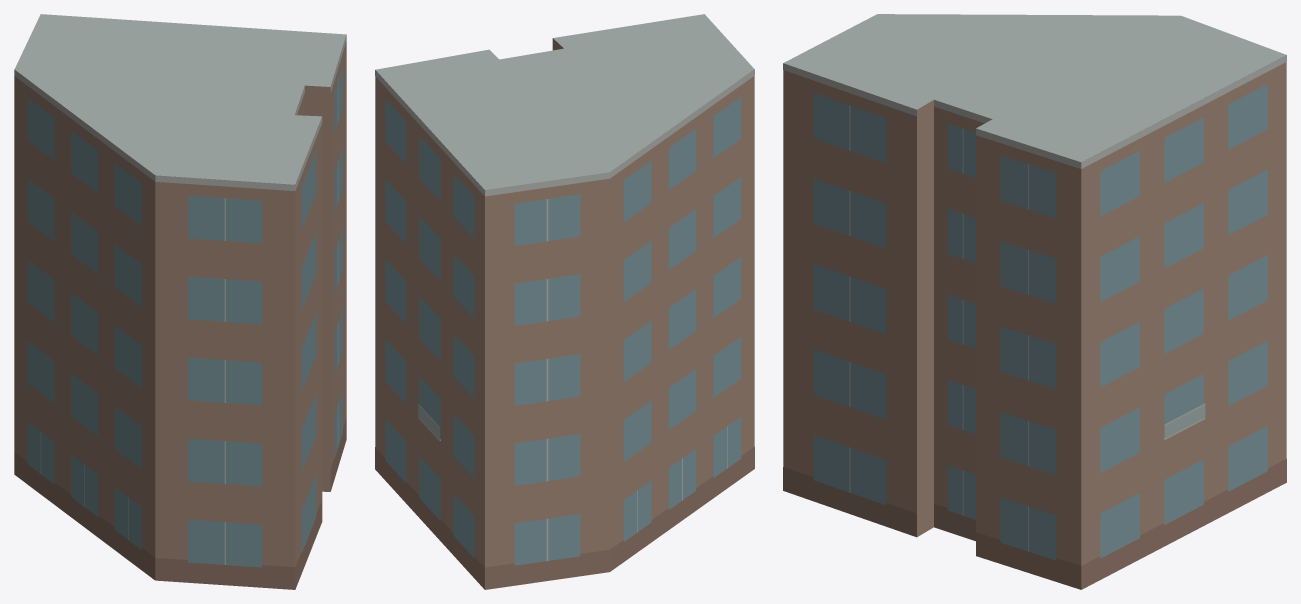
The model's file is survey-upis-32988275.glb.
The picture shows the model from 3 angles, left to right: view 1: azimuth 30°, elevation 25°; view 2: azimuth 150°, elevation 25°; view 3: azimuth 270°, elevation 25°; orthographic projection. The views are drawn at different scales.
Parts seen in each view (by area): view 1: survey-upis-32988275.tmp; view 2: survey-upis-32988275.tmp; view 3: survey-upis-32988275.tmp.
Boxes of the visible parts, x1,y1,x2,y2 form: survey-upis-32988275.tmp: (14,14,346,589); survey-upis-32988275.tmp: (375,14,754,589); survey-upis-32988275.tmp: (783,14,1286,589).
Size of the model in its own units: 11.46 by 15.4 by 16.45.
